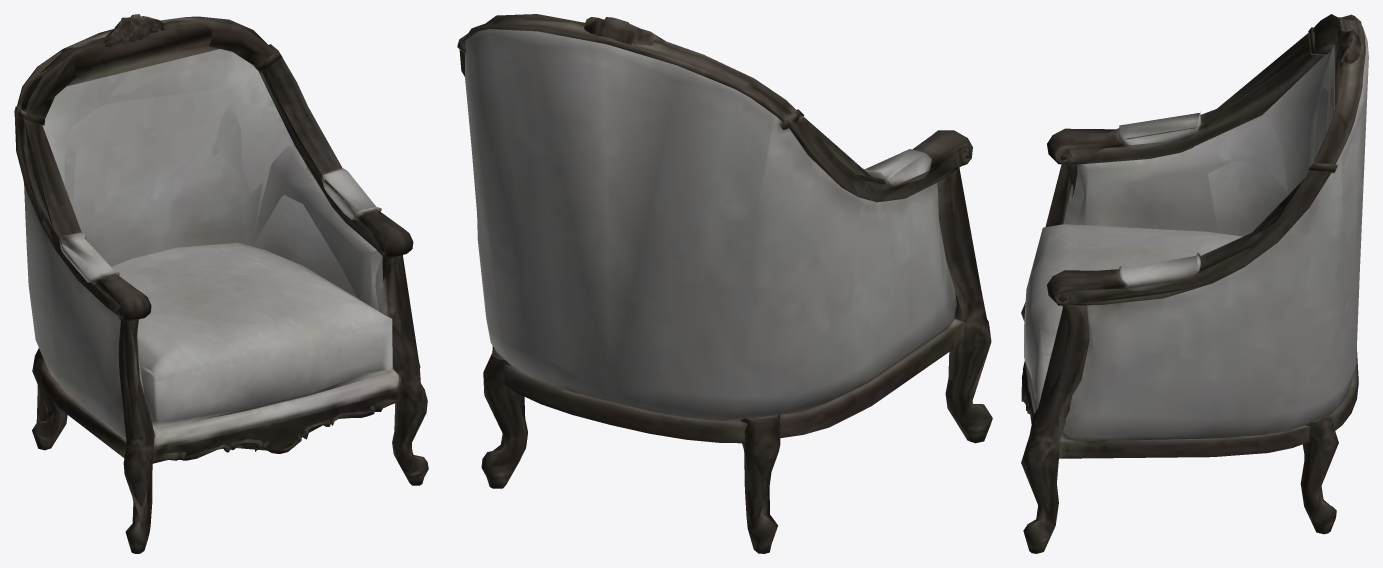
The model's file is ArmChair_01.glb.
3 renders of one model, left to right at view 1: azimuth 30°, elevation 25°; view 2: azimuth 150°, elevation 25°; view 3: azimuth 270°, elevation 25°, orthographic. The views are drawn at different scales.
Visible parts, largest first — view 1: ArmChair_01, ArmChair_01_lo; view 2: ArmChair_01, ArmChair_01_lo; view 3: ArmChair_01, ArmChair_01_lo.
Part boxes in pixels (left/top/right/bottom): ArmChair_01: left=14, top=14, right=428, bottom=553; ArmChair_01_lo: left=18, top=25, right=422, bottom=523; ArmChair_01: left=457, top=14, right=992, bottom=553; ArmChair_01_lo: left=463, top=17, right=990, bottom=531; ArmChair_01: left=1021, top=14, right=1368, bottom=553; ArmChair_01_lo: left=1021, top=19, right=1361, bottom=520.
Size of the model in its own units: 0.8483 by 1.06 by 0.7619.
Materials: 1 (1 with a texture image).
